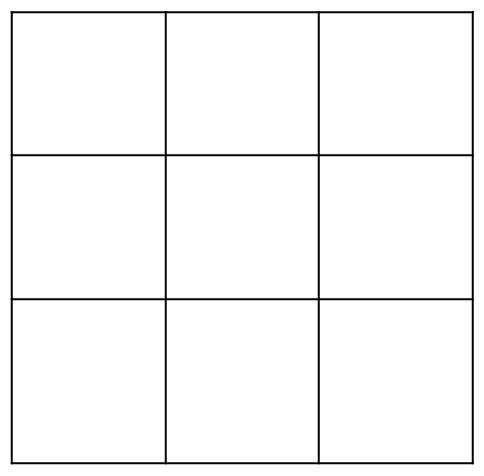cuadrado: (318, 298, 475, 465), (165, 298, 321, 464), (11, 299, 167, 462), (317, 153, 474, 301), (10, 11, 167, 156), (318, 11, 475, 156), (165, 155, 321, 300), (12, 155, 167, 300), (165, 12, 320, 156)
